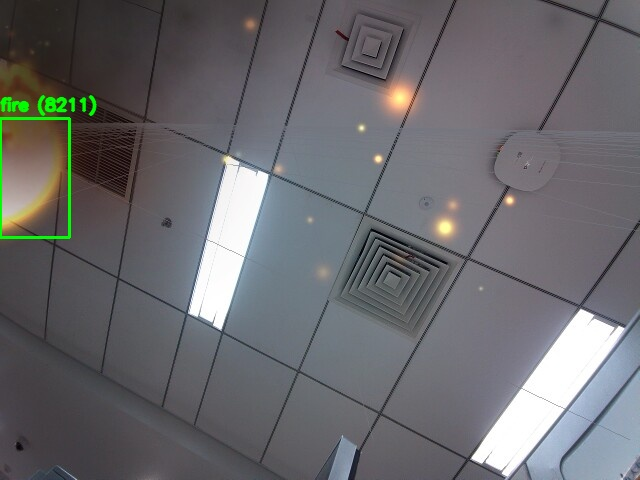fire: (0, 118, 69, 237)
